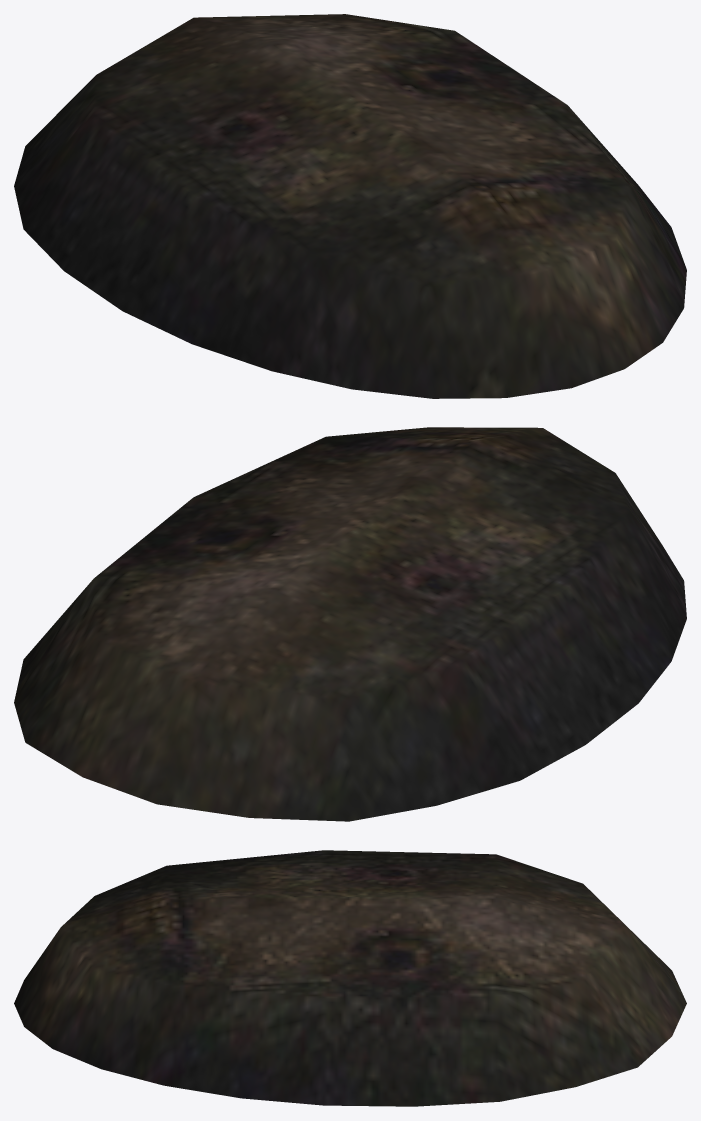
File: mask_mx_3_1.obj
3 renders of one model, top to bottom at view 1: azimuth 30°, elevation 25°; view 2: azimuth 150°, elevation 25°; view 3: azimuth 270°, elevation 25°, orthographic. The views are drawn at different scales.
Parts seen in each view (by area): view 1: mask_mx_3_1; view 2: mask_mx_3_1; view 3: mask_mx_3_1.
Boxes of the visible parts, x1,y1,x2,y2 form: mask_mx_3_1: [14, 14, 686, 398]; mask_mx_3_1: [14, 427, 686, 821]; mask_mx_3_1: [14, 850, 686, 1106].
Size of the model in its own units: 0.2322 by 0.0554 by 0.3198.
